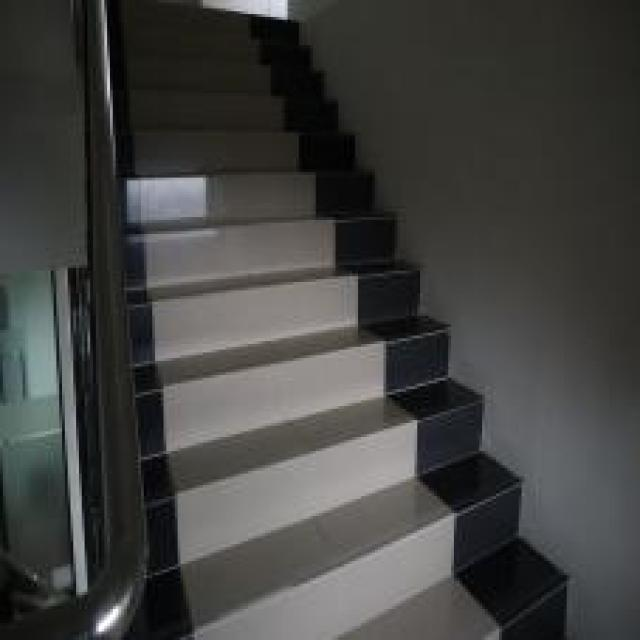upstair: (167, 55, 424, 638)
